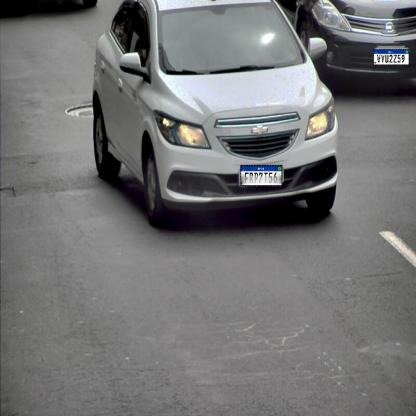PlacaM: (240, 165, 283, 187), (374, 49, 410, 65)
